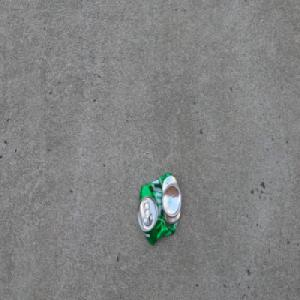SodaCan: (136, 171, 181, 246)
